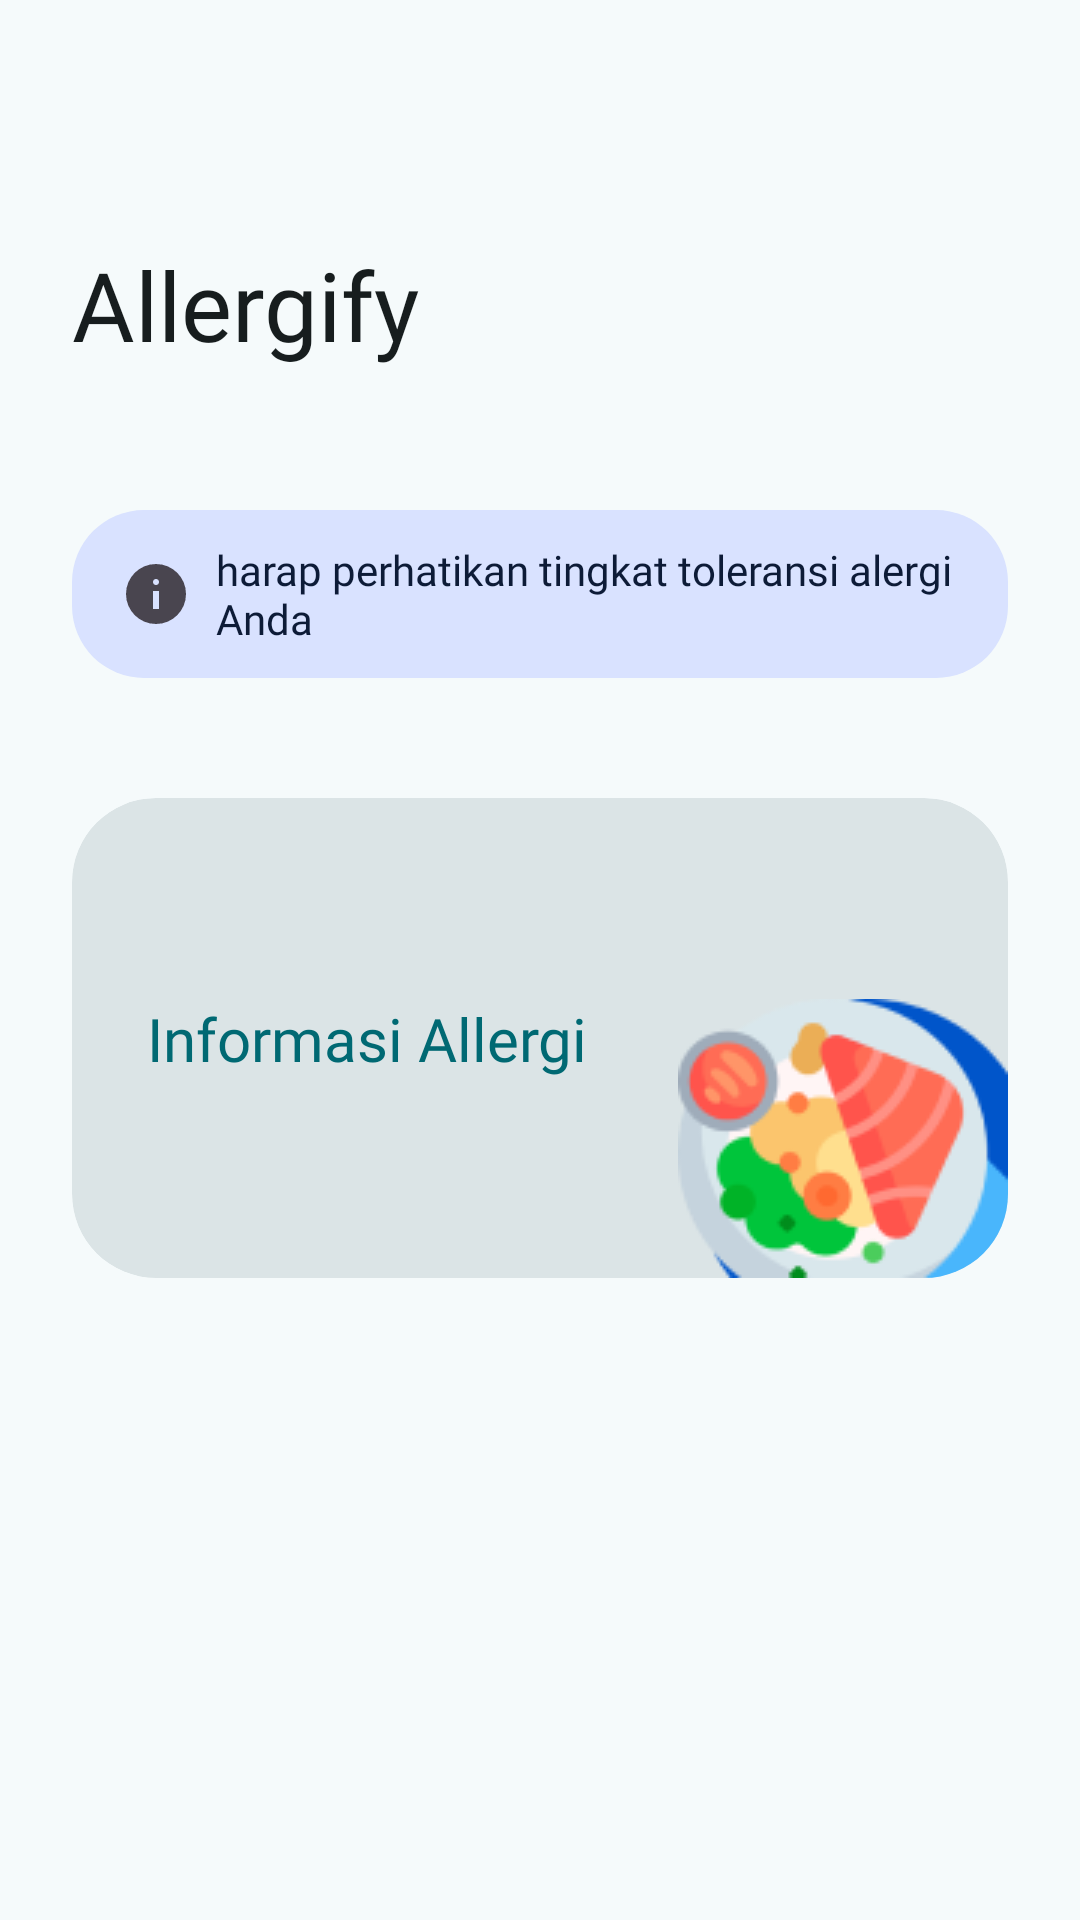

Where to tap for icons on this 1080px x 1920px app screen, as point (x, y):
info: point (156, 594)
